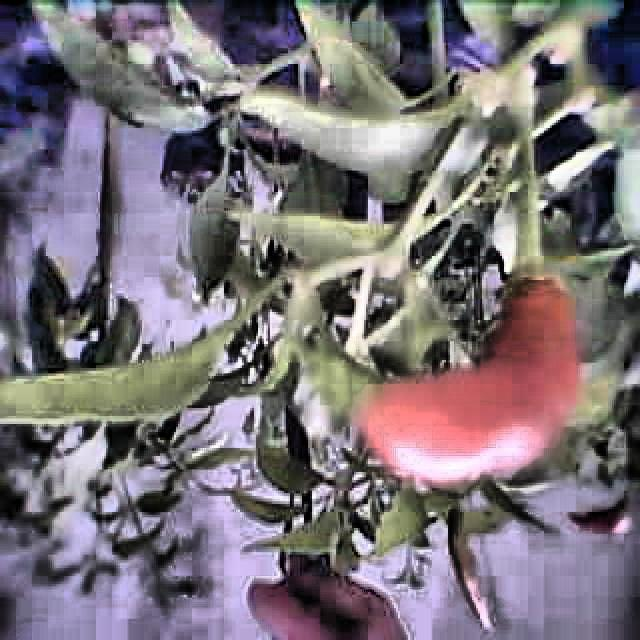Cabai: (358, 267, 568, 501)
